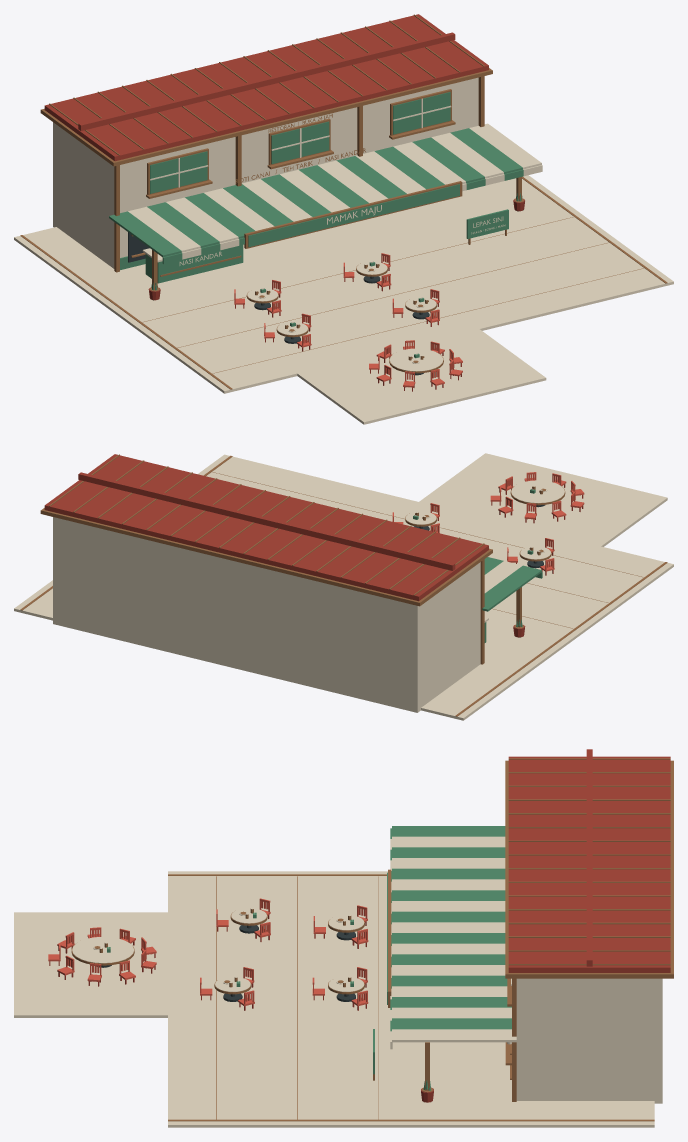
The model's file is LM_ENV_MamakMaju.glb.
The picture shows the model from 3 angles, top to bottom: view 1: azimuth 30°, elevation 25°; view 2: azimuth 150°, elevation 25°; view 3: azimuth 270°, elevation 25°; orthographic projection. The views are drawn at different scales.
Parts seen in each view (by area): view 1: LM_ENV_MamakMaju; view 2: LM_ENV_MamakMaju; view 3: LM_ENV_MamakMaju.
Part boxes in pixels (left/top/right/bottom): LM_ENV_MamakMaju: left=14, top=14, right=673, bottom=424; LM_ENV_MamakMaju: left=14, top=453, right=673, bottom=720; LM_ENV_MamakMaju: left=14, top=749, right=673, bottom=1127.
Bounding box in the file's own units: 37 × 9.95 × 40.7.
